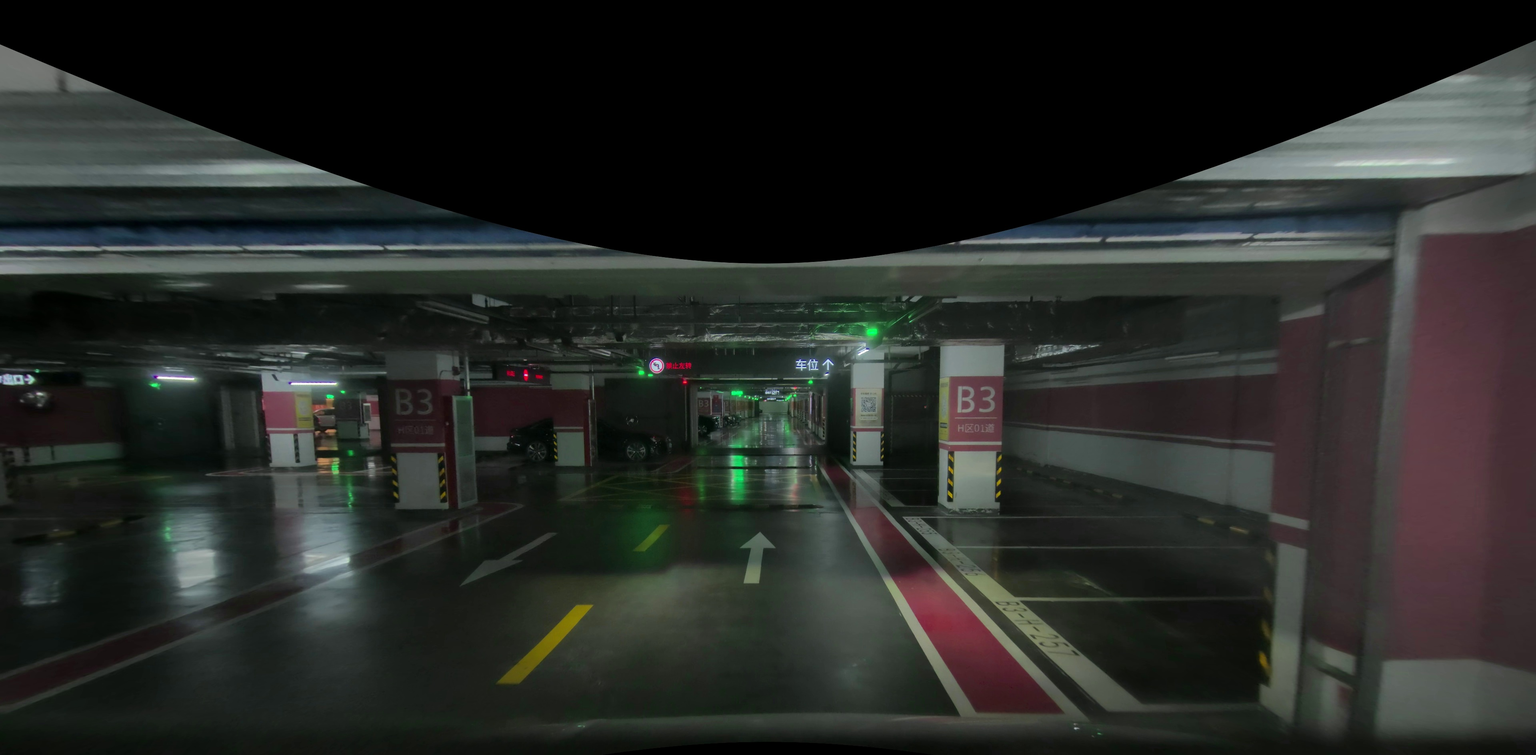B3: (390, 385, 434, 416), (952, 384, 997, 413), (697, 399, 708, 407)
B3-H-256: (934, 541, 983, 581)
B3-H-257: (994, 593, 1088, 662)
H区01道: (394, 422, 434, 436), (954, 420, 995, 433)
上: (736, 531, 776, 583), (822, 356, 832, 370)
下: (461, 525, 563, 600)
出口: (0, 371, 23, 384)
右: (24, 373, 35, 383)
禁止右转: (647, 357, 664, 374)
禁止左转: (666, 362, 694, 372)
禁止通行: (523, 370, 529, 381)
车位: (794, 356, 820, 370)
